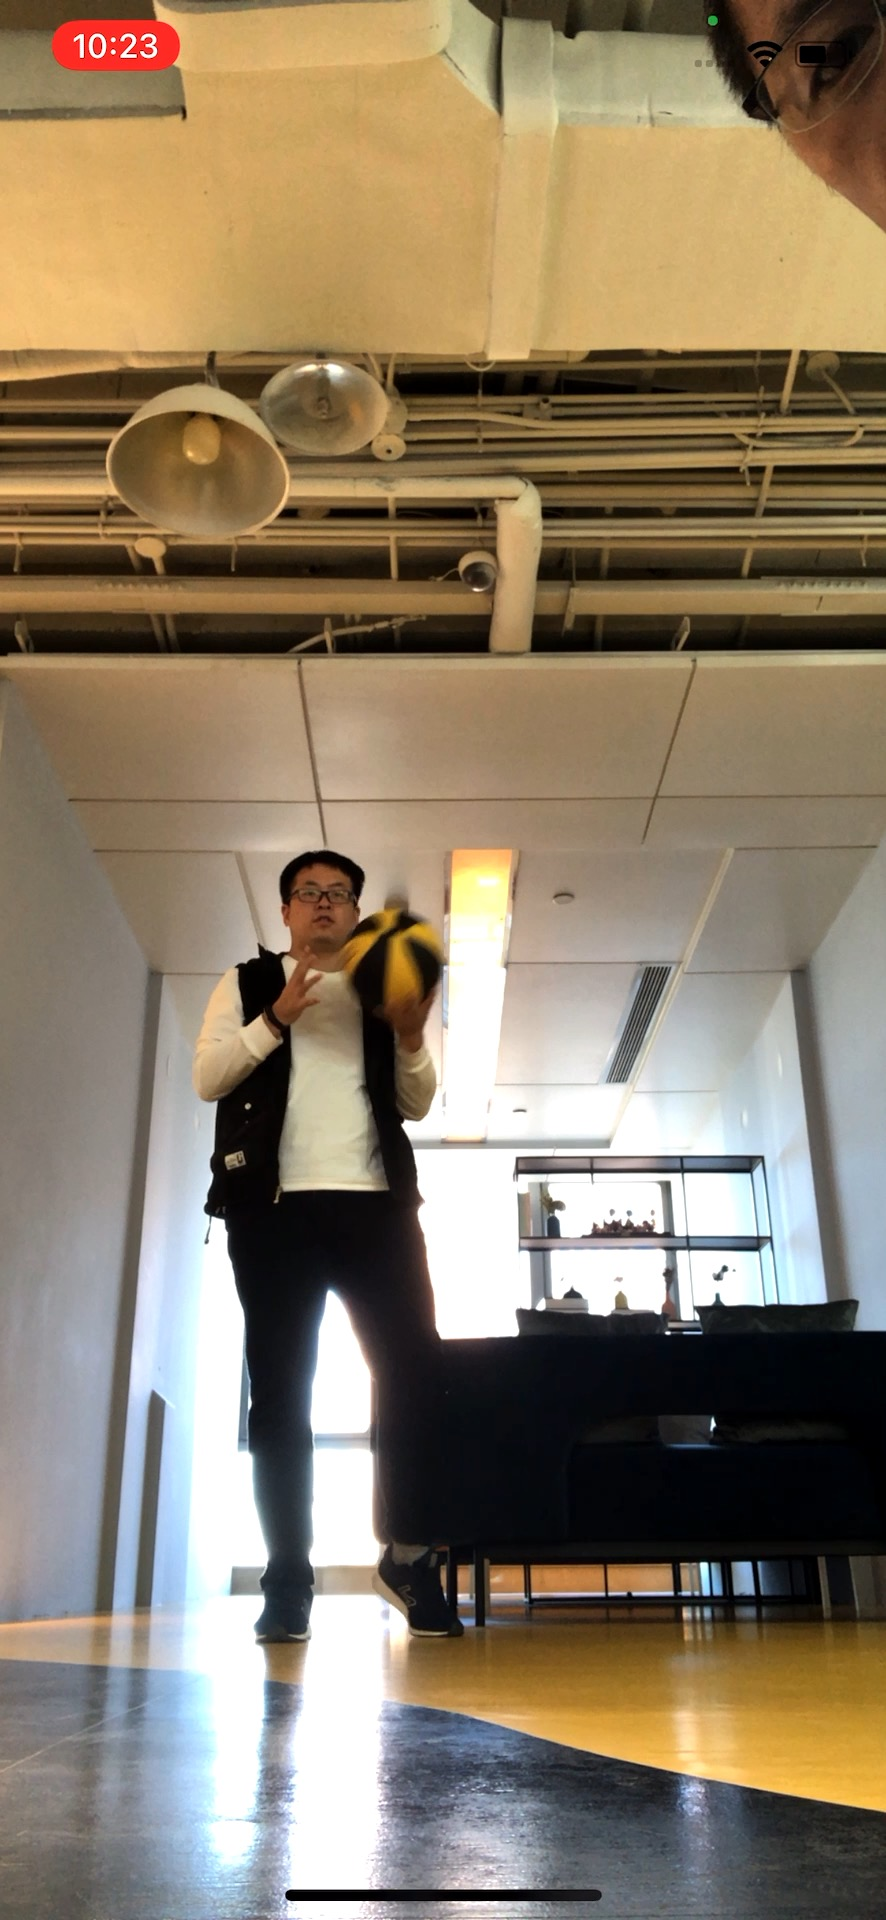ball: (343, 906, 445, 1019)
